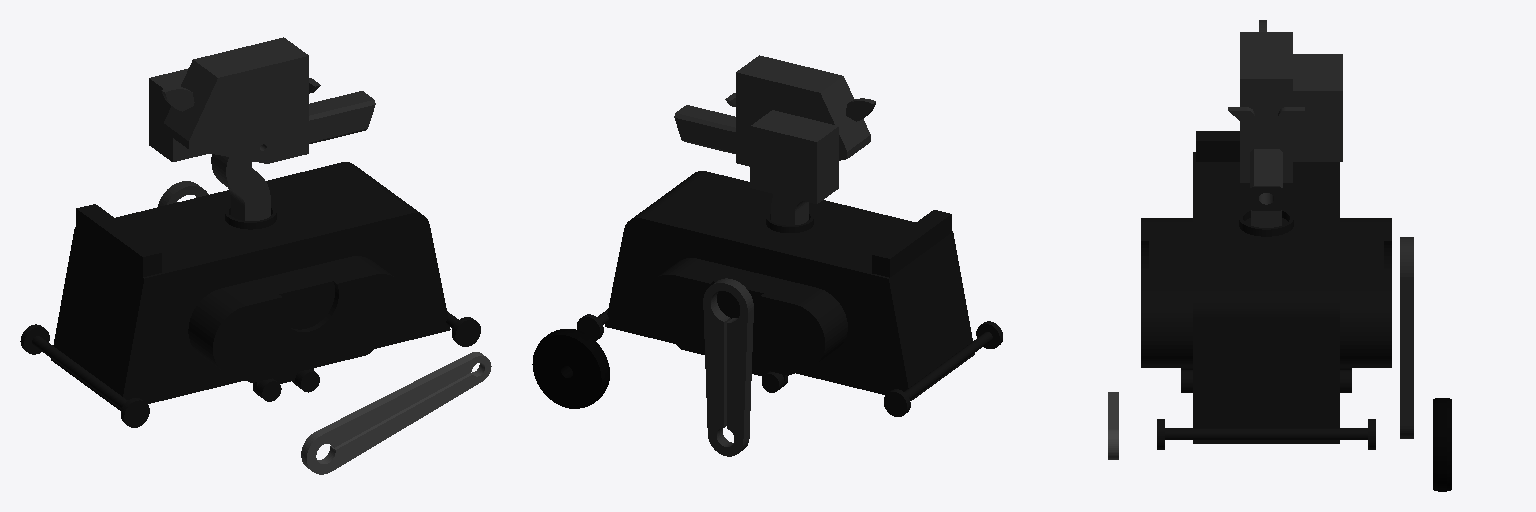
robot.urdf — Wheel-Legged-Infantry:
<?xml version="1.0" encoding="utf-8"?>

<robot name="Wheel-Legged-Infantry">
    <mujoco>
        <compiler meshdir="../meshes/" balanceinertia="false" discardvisual="false" fusestatic="false"/>
    </mujoco>
    <link name="base_link">
        <inertial>
            <origin xyz="0.0066 0 -0.0318" rpy="0 0 0"/>
            <mass value="11.513"/>
            <inertia ixx="0.1392" ixy="0.001321" ixz="-0.01715" iyy="0.2492" iyz="0.0002667" izz="0.3111"/>
        </inertial>
        <visual>
            <origin xyz="0 0 0" rpy="0 0 0"/>
            <geometry>
                <mesh filename="../meshes/base.STL"/>
            </geometry>
            <material name="">
                <color rgba="0.1 0.1 0.1 1"/>
            </material>
        </visual>
        <collision>
            <origin xyz="0 0 -0.03" rpy="0 0 0"/>
            <geometry>
                <box size="0.5 0.20 0.2"/>
            </geometry>
        </collision>
        <collision>
            <origin xyz="0 0 -0.04" rpy="0 0 0"/>
            <geometry>
                <box size="0.25 0.32 0.12"/>
            </geometry>
        </collision>
        <collision>
            <origin xyz="0.257 0 -0.115" rpy="1.57079632 0 0"/>
            <geometry>
                <cylinder length="0.28" radius="0.02"/>
            </geometry>
        </collision>
        <collision>
            <origin xyz="-0.257 0 -0.115" rpy="1.57079632 0 0"/>
            <geometry>
                <cylinder length="0.28" radius="0.02"/>
            </geometry>
        </collision>
        <collision>
            <origin xyz="0.03 0 -0.148" rpy="1.57079632 0 0"/>
            <geometry>
                <cylinder length="0.22" radius="0.015"/>
            </geometry>
        </collision>
        <collision>
            <origin xyz="-0.03 0 -0.148" rpy="1.57079632 0 0"/>
            <geometry>
                <cylinder length="0.22" radius="0.015"/>
            </geometry>
        </collision>
    </link>
    <link name="gimbal_yaw_link">
        <inertial>
            <origin xyz="-0.038 0 0.1" rpy="0 0 0"/>
            <mass value="0.976"/>
            <inertia ixx="0.002485" ixy="-0.0001491" ixz="0.0006652" iyy="0.00335822" iyz="0.000327698" izz="0.001774155"/>
        </inertial>
        <visual>
            <origin xyz="0 0 0" rpy="0 0 0"/>
            <geometry>
                <mesh filename="../meshes/gimbal_yaw_link.STL"/>
            </geometry>
            <material name="">
                <color rgba="0.2 0.2 0.2 1"/>
            </material>
        </visual>
        <collision>
            <origin xyz="0 0 0.1" rpy="0 0 0"/>
            <geometry>
                <cylinder length="0.14" radius="0.025"/>
            </geometry>
        </collision>
    </link>
    <joint name="gimbal_yaw_joint" type="fixed">
        <origin xyz="0 0 0" rpy="0 0 0"/>
        <parent link="base_link"/>
        <child link="gimbal_yaw_link"/>
        <axis xyz="0 0 1"/>
    </joint>
    <link name="gimbal_pitch_link">
        <inertial>
            <origin xyz="0.027 0 0.038" rpy="0 0 0"/>
            <mass value="1.367"/>
            <inertia ixx="0.003600394" ixy="0.000520623" ixz="0.000621138" iyy="0.007842668" iyz="0.000081977" izz="0.007087057"/>
        </inertial>
        <visual>
            <origin xyz="0 0 0" rpy="0 0 0"/>
            <geometry>
                <mesh filename="../meshes/gimbal_pitch_link.STL"/>
            </geometry>
            <material name="">
                <color rgba="0.2 0.2 0.2 1"/>
            </material>
        </visual>
        <collision>
            <origin xyz="-0.01 0.0 0.05" rpy="0 0 0"/>
            <geometry>
                <box size="0.15 0.08 0.15"/>
            </geometry>
        </collision>
        <collision>
            <origin xyz="0.12 0.0 0" rpy="0 0 0"/>
            <geometry>
                <box size="0.12 0.05 0.05"/>
            </geometry>
        </collision>
        <collision>
            <origin xyz="-0.048 0.07 0.025" rpy="0 0 0"/>
            <geometry>
                <box size="0.11 0.06 0.10"/>
            </geometry>
        </collision>
    </link>
    <joint name="gimbal_pitch_joint" type="fixed">
        <origin xyz="0 0 0.178" rpy="0 0 0"/>
        <parent link="gimbal_yaw_link"/>
        <child link="gimbal_pitch_link"/>
        <axis xyz="0 1 0"/>
    </joint>
    <link name="hip_l_link">
        <inertial>
            <origin xyz="0.098 0 0" rpy="0 0 0"/>
            <mass value="0.934"/>
            <inertia ixx="0.0002846" ixy="0.0000143136" ixz="0.0001012944" iyy="0.003525624" iyz="-0.0000042544" izz="0.0032762672"/>
        </inertial>
        <visual>
            <origin xyz="0 0 0" rpy="0 0 0"/>
            <geometry>
                <mesh filename="../meshes/hip_link_l.STL"/>
            </geometry>
            <material name="">
                <color rgba="0.2 0.2 0.2 1"/>
            </material>
        </visual>
        <collision>
            <origin xyz="0.105 0 0" rpy="0 0 0"/>
            <geometry>
                <box size="0.21 0.015 0.06"/>
            </geometry>
        </collision>
        <collision>
            <origin xyz="0.210 0 0" rpy="1.57079632 0 0"/>
            <geometry>
                <cylinder length="0.015" radius="0.03"/>
            </geometry> 
        </collision>
    </link>
    <joint name="hip_l_joint" type="continuous">
        <origin xyz="0 0.179 0" rpy="0 1.5708 0"/>
        <parent link="base_link"/>
        <child link="hip_l_link"/>
        <axis xyz="0 1 0"/>
        <limit effort="80" velocity="20"/>
    </joint>
    <link name="knee_l_link">
        <inertial>
            <origin xyz="0.123 0 0" rpy="0 0 0"/>
            <mass value="0.67"/>
            <inertia ixx="0.0009460464" ixy="0.0016010944" ixz="0.000006592" iyy="0.0033157904" iyz="-0.0000033216" izz="0.0042459008"/>
        </inertial>
        <visual>
            <origin xyz="0 0 0" rpy="0 0 0"/>
            <geometry>
                <mesh filename="../meshes/knee_link_l.STL"/>
            </geometry>
            <material name="">
                <color rgba="0.3 0.3 0.3 1"/>
            </material>
        </visual>
        <collision>
            <origin xyz="0.124 0 0" rpy="0 0 0"/>
            <geometry>
                <box size="0.248 0.015 0.06"/>
            </geometry>
        </collision>
        <collision>
            <origin xyz="0 0 0" rpy="1.57079632 0 0"/>
            <geometry>
                <cylinder length="0.018" radius="0.03"/>
            </geometry> 
        </collision>
    </link>
    <joint name="knee_l_joint" type="revolute">
        <origin xyz="0.210 0.0165 0" rpy="0 3.1416 0"/>
        <parent link="hip_l_link"/>
        <child link="knee_l_link"/>
        <axis xyz="0 1 0"/>
        <limit lower="0.416" upper="2.153" effort="80" velocity="20"/>
    </joint>
    <link name="wheel_l">
        <inertial>
            <origin xyz="0 0 0" rpy="0 0 0"/>
            <mass value="0.468"/>
            <inertia ixx="0.00034258" ixy="0.0" ixz="0.0" iyy="0.000540375" iyz="0.0" izz="0.000343769"/>
        </inertial>
        <visual>
            <origin xyz="0 0 0" rpy="0 0 0"/>
            <geometry>
                <mesh filename="../meshes/wheel_l.STL"/>
            </geometry>
            <material name="">
                <color rgba="0.05 0.05 0.05 1"/>
            </material>
        </visual>
        <collision>
            <origin xyz="0 0 0" rpy="1.57079632 0 0"/>
            <geometry>
                <cylinder length="0.015" radius="0.06"/>
            </geometry>
        </collision>
    </link>
    <joint name="wheel_l_joint" type="continuous">
        <origin xyz="0.248 0.0295 0" rpy="0 0 0"/>
        <parent link="knee_l_link"/>
        <child link="wheel_l"/>
        <axis xyz="0 1 0"/>
        <limit effort="5" velocity="60"/>
    </joint>
    <link name="hip_r_link">
        <inertial>
            <origin xyz="0.098 0 0" rpy="0 0 0"/>
            <mass value="0.934"/>
            <inertia ixx="0.0002846" ixy="0.0000143136" ixz="0.0001012944" iyy="0.003525624" iyz="-0.0000042544" izz="0.0032762672"/>
        </inertial>
        <visual>
            <origin xyz="0 0 0" rpy="0 0 0"/>
            <geometry>
                <mesh filename="../meshes/hip_link_r.STL"/>
            </geometry>
            <material name="">
                <color rgba="0.2 0.2 0.2 1"/>
            </material>
        </visual>
        <collision>
            <origin xyz="0.105 0 0" rpy="0 0 0"/>
            <geometry>
                <box size="0.21 0.015 0.06"/>
            </geometry>
        </collision>
        <collision>
            <origin xyz="0.210 0 0" rpy="1.57079632 0 0"/>
            <geometry>
                <cylinder length="0.015" radius="0.03"/>
            </geometry> 
        </collision>
    </link>
    <joint name="hip_r_joint" type="continuous">
        <origin xyz="0 -0.179 0" rpy="0 1.5708 0"/>
        <parent link="base_link"/>
        <child link="hip_r_link"/>
        <axis xyz="0 1 0"/>
        <limit effort="80" velocity="20"/>
    </joint>
    <link name="knee_r_link">
        <inertial>
            <origin xyz="0.123 0 0" rpy="0 0 0"/>
            <mass value="0.67"/>
            <inertia ixx="0.0009460464" ixy="0.0016010944" ixz="0.000006592" iyy="0.0033157904" iyz="-0.0000033216" izz="0.0042459008"/>
        </inertial>
        <visual>
            <origin xyz="0 0 0" rpy="0 0 0"/>
            <geometry>
                <mesh filename="../meshes/knee_link_r.STL"/>
            </geometry>
            <material name="">
                <color rgba="0.3 0.3 0.3 1"/>
            </material>
        </visual>
        <collision>
            <origin xyz="0.124 0 0" rpy="0 0 0"/>
            <geometry>
                <box size="0.248 0.015 0.06"/>
            </geometry>
        </collision>
        <collision>
            <origin xyz="0 0 0" rpy="1.57079632 0 0"/>
            <geometry>
                <cylinder length="0.018" radius="0.03"/>
            </geometry> 
        </collision>
    </link>
    <joint name="knee_r_joint" type="revolute">
        <origin xyz="0.210 -0.0165 0" rpy="0 3.1416 0"/>
        <parent link="hip_r_link"/>
        <child link="knee_r_link"/>
        <axis xyz="0 1 0"/>
        <limit lower="0.416" upper="2.153" effort="80" velocity="20"/>
    </joint>
    <link name="wheel_r">
        <inertial>
            <origin xyz="0 0 0" rpy="0 0 0"/>
            <mass value="0.468"/>
            <inertia ixx="0.00034258" ixy="0.0" ixz="0.0" iyy="0.000540375" iyz="0.0" izz="0.000343769"/>
        </inertial>
        <visual>
            <origin xyz="0 0 0" rpy="0 0 0"/>
            <geometry>
                <mesh filename="../meshes/wheel_r.STL"/>
            </geometry>
            <material name="">
                <color rgba="0.05 0.05 0.05 1"/>
            </material>
        </visual>
        <collision>
            <origin xyz="0 0 0" rpy="1.57079632 0 0"/>
            <geometry>
                <cylinder length="0.015" radius="0.06"/>
            </geometry>
        </collision>
    </link>
    <joint name="wheel_r_joint" type="continuous">
        <origin xyz="0.248 -0.0295 0" rpy="0 0 0"/>
        <parent link="knee_r_link"/>
        <child link="wheel_r"/>
        <axis xyz="0 1 0"/>
        <limit effort="5" velocity="60"/>
    </joint>

</robot>

--- Facts derived from the render (not from the file) ---
Views: 3 orthographic renders of the robot side by side, from view 1: azimuth 30°, elevation 25°; view 2: azimuth 150°, elevation 25°; view 3: azimuth 270°, elevation 25°.
Robot: Wheel-Legged-Infantry — 9 links, 8 joints (2 revolute, 4 continuous, 2 fixed); root link base_link; default pose: all joints at 0 but 2 set to mid-range because 0 is outside their limits (knee_l_joint = 1.28, knee_r_joint = 1.28).
Visible links, largest first — view 1: base_link, gimbal_pitch_link, knee_r_link, gimbal_yaw_link, hip_l_link; view 2: base_link, gimbal_pitch_link, hip_l_link, wheel_l, gimbal_yaw_link; view 3: base_link, gimbal_pitch_link, hip_l_link, wheel_l, knee_r_link.
Boxes of the visible links, bbox=[...] form: base_link: bbox=[20, 162, 480, 427]; gimbal_pitch_link: bbox=[149, 37, 375, 163]; knee_r_link: bbox=[301, 352, 491, 474]; gimbal_yaw_link: bbox=[211, 154, 270, 220]; hip_l_link: bbox=[158, 181, 208, 206]; base_link: bbox=[577, 171, 1002, 416]; gimbal_pitch_link: bbox=[674, 55, 875, 203]; hip_l_link: bbox=[703, 278, 753, 456]; wheel_l: bbox=[532, 329, 609, 408]; gimbal_yaw_link: bbox=[771, 194, 808, 225]; base_link: bbox=[1141, 131, 1391, 449]; gimbal_pitch_link: bbox=[1228, 20, 1342, 210]; hip_l_link: bbox=[1400, 237, 1413, 438]; wheel_l: bbox=[1433, 398, 1451, 491]; knee_r_link: bbox=[1108, 392, 1118, 459].
Bounding box of the posed robot: 0.5759 × 0.4405 × 0.538 m (x, y, z).
Meshes: 9 distinct files referenced, 6 mesh visuals loaded (6 binary STL); not drawn: 3 (reference not matched to a file when rendering).